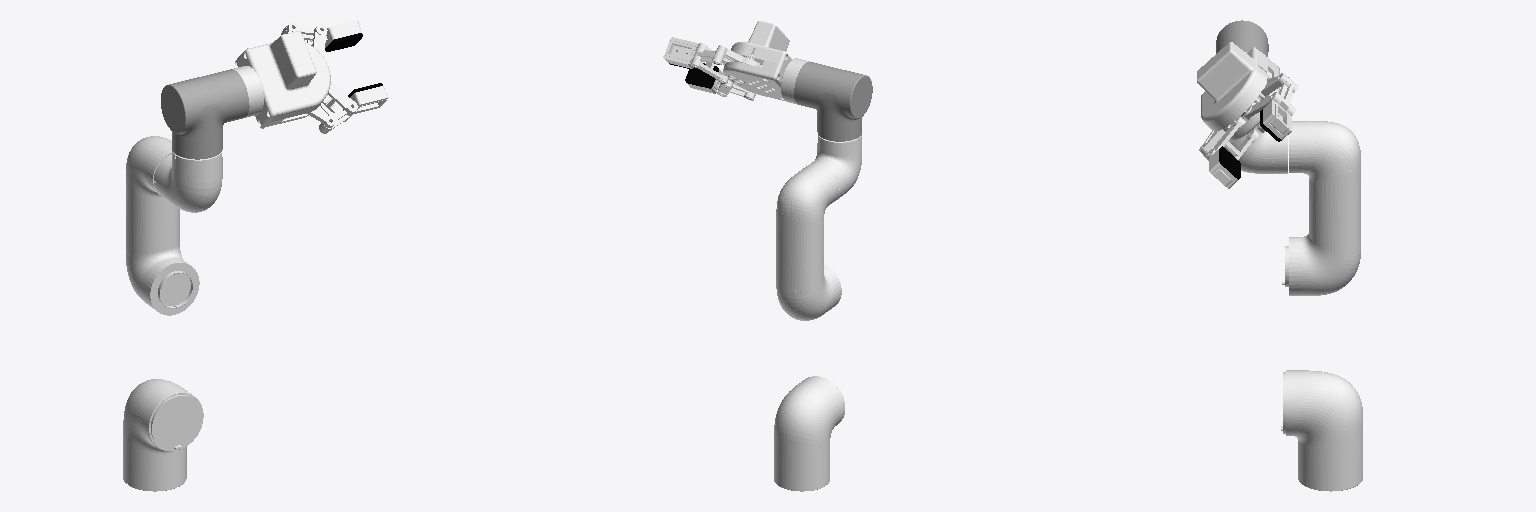
The robot description file, URDF, robot "mycobot_280_jn":
<?xml version="1.0"?>
<robot name="mycobot_280_jn">
  <link name="world"/>
  <joint name="world_to_g_base" type="fixed"><parent link="world"/><child link="g_base"/><origin xyz="0 0 0" rpy="0 0 0"/></joint>

  <link name="g_base">
    <visual>
      <geometry><mesh filename="package://positronic_description/urdf/mycobot_280_jn_sim/meshes/visual/g_base.dae"/></geometry>
    </visual>
    <collision>
      <geometry><mesh filename="package://positronic_description/urdf/mycobot_280_jn_sim/meshes/collision/g_base.stl"/></geometry>
    </collision>
    <inertial>
      <origin xyz="0.000004 0.000000 0.016000" rpy="0 0 0"/>
      <mass value="0.18415"/>
      <inertia ixx="3.5748e-04" ixy="5.8017e-10" ixz="1.5028e-14" iyy="1.9952e-04" iyz="-4.0912e-09" izz="5.2559e-04"/>
    </inertial>
  </link>
  <joint name="g_base_to_joint1" type="fixed"><parent link="g_base"/><child link="joint1"/><origin xyz="0 0 0.0320" rpy="0 0 0"/></joint>

  <link name="joint1">
    <visual>
      <geometry><mesh filename="package://positronic_description/urdf/mycobot_280_jn_sim/meshes/visual/joint1.dae"/></geometry>
    </visual>
    <collision>
      <geometry><mesh filename="package://positronic_description/urdf/mycobot_280_jn_sim/meshes/collision/joint1.stl"/></geometry>
    </collision>
    <inertial>
      <origin xyz="-0.000007 -0.000080 0.049738" rpy="0 0 0"/>
      <mass value="0.50875"/>
      <inertia ixx="1.2317e-03" ixy="6.9182e-09" ixz="-6.2406e-08" iyy="9.2410e-04" iyz="1.1339e-06" izz="1.1863e-03"/>
    </inertial>
  </link>
  <link name="joint2">
    <visual>
      <geometry><mesh filename="package://positronic_description/urdf/mycobot_280_jn_sim/meshes/visual/joint2.dae"/></geometry>
    </visual>
    <collision>
      <geometry><mesh filename="package://positronic_description/urdf/mycobot_280_jn_sim/meshes/collision/joint2.stl"/></geometry>
    </collision>
    <inertial>
      <origin xyz="-0.000000 -0.006642 -0.021543" rpy="0 0 0"/>
      <mass value="0.06376"/>
      <inertia ixx="4.6518e-05" ixy="-1.4217e-10" ixz="4.0220e-11" iyy="4.1988e-05" iyz="5.2079e-06" izz="2.3962e-05"/>
    </inertial>
  </link>
  <link name="joint3">
    <visual>
      <geometry><mesh filename="package://positronic_description/urdf/mycobot_280_jn_sim/meshes/visual/joint3.dae"/></geometry>
    </visual>
    <collision>
      <geometry><mesh filename="package://positronic_description/urdf/mycobot_280_jn_sim/meshes/collision/joint3.stl"/></geometry>
    </collision>
    <inertial>
      <origin xyz="-0.054329 -0.000001 0.055329" rpy="0 0 0"/>
      <mass value="0.11283"/>
      <inertia ixx="4.0982e-05" ixy="-4.4556e-09" ixz="-7.0957e-07" iyy="2.1152e-04" iyz="-8.7142e-10" izz="2.0504e-04"/>
    </inertial>
  </link>
  <link name="joint4">
    <visual>
      <geometry><mesh filename="package://positronic_description/urdf/mycobot_280_jn_sim/meshes/visual/joint4.dae"/></geometry>
    </visual>
    <collision>
      <geometry><mesh filename="package://positronic_description/urdf/mycobot_280_jn_sim/meshes/collision/joint4.stl"/></geometry>
    </collision>
    <inertial>
      <origin xyz="-0.045854 0.000000 0.007555" rpy="0 0 0"/>
      <mass value="0.08998"/>
      <inertia ixx="3.0322e-05" ixy="2.4186e-09" ixz="-2.9578e-06" iyy="1.3482e-04" iyz="1.3086e-09" izz="1.2647e-04"/>
    </inertial>
  </link>
  <link name="joint5">
    <visual>
      <geometry><mesh filename="package://positronic_description/urdf/mycobot_280_jn_sim/meshes/visual/joint5.dae"/></geometry>
    </visual>
    <collision>
      <geometry><mesh filename="package://positronic_description/urdf/mycobot_280_jn_sim/meshes/collision/joint5.stl"/></geometry>
    </collision>
    <inertial>
      <origin xyz="0.000001 -0.009519 -0.008481" rpy="0 0 0"/>
      <mass value="0.02887"/>
      <inertia ixx="1.1107e-05" ixy="2.2157e-10" ixz="1.0327e-10" iyy="8.0087e-06" iyz="1.5831e-06" izz="8.7282e-06"/>
    </inertial>
  </link>
  <link name="joint6">
    <visual>
      <geometry><mesh filename="package://positronic_description/urdf/mycobot_280_jn_sim/meshes/visual/joint6.dae"/></geometry>
    </visual>
    <collision>
      <geometry><mesh filename="package://positronic_description/urdf/mycobot_280_jn_sim/meshes/collision/joint6.stl"/></geometry>
    </collision>
    <inertial>
      <origin xyz="-0.000000 0.005619 -0.009142" rpy="0 0 0"/>
      <mass value="0.03611"/>
      <inertia ixx="1.6575e-05" ixy="1.3007e-11" ixz="9.1115e-11" iyy="1.1852e-05" iyz="-8.2298e-07" izz="1.2374e-05"/>
    </inertial>
  </link>
  <link name="joint6_flange">
    <visual>
      <geometry><mesh filename="package://positronic_description/urdf/mycobot_280_jn_sim/meshes/visual/joint6_flange.dae"/></geometry>
    </visual>
    <collision>
      <geometry><mesh filename="package://positronic_description/urdf/mycobot_280_jn_sim/meshes/collision/joint6_flange.stl"/></geometry>
    </collision>
    <inertial>
      <origin xyz="-0.000000 -0.000000 -0.005150" rpy="0 0 0"/>
      <mass value="0.00556"/>
      <inertia ixx="5.9851e-07" ixy="-5.1008e-24" ixz="1.4442e-24" iyy="5.9851e-07" iyz="-7.4388e-16" izz="1.0234e-06"/>
    </inertial>
  </link>
  <joint name="joint2_to_joint1" type="revolute">
    <parent link="joint1"/><child link="joint2"/>
    <origin xyz="0 0 0.15756" rpy="0 0 0"/>
    <axis xyz="0 0 1"/>
    <limit effort="10.0" lower="-2.9321" upper="2.9321" velocity="2.618"/>
    <dynamics damping="0.1" friction="0.01"/>
  </joint>
  <joint name="joint3_to_joint2" type="revolute">
    <parent link="joint2"/><child link="joint3"/>
    <origin xyz="0 0 -0.001" rpy="0 1.5708 -1.5708"/>
    <axis xyz="0 0 1"/>
    <limit effort="10.0" lower="-2.4434" upper="2.4434" velocity="2.618"/>
    <dynamics damping="0.1" friction="0.01"/>
  </joint>
  <joint name="joint4_to_joint3" type="revolute">
    <parent link="joint3"/><child link="joint4"/>
    <origin xyz="-0.1104 0 0" rpy="0 0 0"/>
    <axis xyz="0 0 1"/>
    <limit effort="10.0" lower="-2.6179" upper="2.6179" velocity="2.618"/>
    <dynamics damping="0.1" friction="0.01"/>
  </joint>
  <joint name="joint5_to_joint4" type="revolute">
    <parent link="joint4"/><child link="joint5"/>
    <origin xyz="-0.096 0 0.06462" rpy="0 0 -1.5708"/>
    <axis xyz="0 0 1"/>
    <limit effort="10.0" lower="-2.6179" upper="2.6179" velocity="2.618"/>
    <dynamics damping="0.1" friction="0.01"/>
  </joint>
  <joint name="joint6_to_joint5" type="revolute">
    <parent link="joint5"/><child link="joint6"/>
    <origin xyz="0 -0.07318 0" rpy="1.5708 -1.5708 0"/>
    <axis xyz="0 0 1"/>
    <limit effort="10.0" lower="-2.7052" upper="2.7925" velocity="2.618"/>
    <dynamics damping="0.1" friction="0.01"/>
  </joint>
  <joint name="joint6output_to_joint6" type="revolute">
    <parent link="joint6"/><child link="joint6_flange"/>
    <origin xyz="0 0.0456 0" rpy="-1.5708 0.7854 0"/>
    <axis xyz="0 0 1"/>
    <limit effort="10.0" lower="-3.14159" upper="3.14159" velocity="2.618"/>
    <dynamics damping="0.1" friction="0.01"/>
  </joint>
  <joint name="joint6output_to_gripper_base" type="fixed">
    <parent link="joint6_flange"/><child link="gripper_base"/>
    <origin xyz="0 0 0.0340" rpy="1.5708 0 0"/>
  </joint>
  <link name="gripper_base">
    <visual>
      <geometry><mesh filename="package://positronic_description/urdf/mycobot_280_jn_sim/meshes/visual/gripper_base.dae"/></geometry>
    </visual>
    <collision>
      <geometry><mesh filename="package://positronic_description/urdf/mycobot_280_jn_sim/meshes/collision/gripper_base.stl"/></geometry>
    </collision>
    <inertial>
      <origin xyz="-0.001001 -0.003635 0.008093" rpy="0 0 0"/>
      <mass value="0.07782"/>
      <inertia ixx="3.0829e-05" ixy="5.8945e-08" ixz="1.4872e-06" iyy="3.0356e-05" iyz="-2.3616e-07" izz="3.6504e-05"/>
    </inertial>
  </link>
  <link name="gripper_left1">
    <visual>
      <geometry><mesh filename="package://positronic_description/urdf/mycobot_280_jn_sim/meshes/visual/gripper_left1.dae"/></geometry>
    </visual>
    <collision>
      <geometry><mesh filename="package://positronic_description/urdf/mycobot_280_jn_sim/meshes/collision/gripper_left1.stl"/></geometry>
    </collision>
    <inertial>
      <origin xyz="0.008214 0.028640 -0.008200" rpy="0 0 0"/>
      <mass value="0.00900"/>
      <inertia ixx="2.1380e-06" ixy="-4.4640e-07" ixz="-5.0431e-18" iyy="5.4470e-07" iyz="1.1387e-17" izz="2.1781e-06"/>
    </inertial>
  </link>
  <link name="gripper_left2">
    <visual>
      <geometry><mesh filename="package://positronic_description/urdf/mycobot_280_jn_sim/meshes/visual/gripper_left2.dae"/></geometry>
    </visual>
    <collision>
      <geometry><mesh filename="package://positronic_description/urdf/mycobot_280_jn_sim/meshes/collision/gripper_left2.stl"/></geometry>
    </collision>
    <inertial>
      <origin xyz="-0.014480 0.007475 -0.008200" rpy="0 0 0"/>
      <mass value="0.00420"/>
      <inertia ixx="2.8523e-07" ixy="2.0839e-07" ixz="3.8170e-22" iyy="5.3324e-07" iyz="-1.9085e-22" izz="5.3908e-07"/>
    </inertial>
  </link>
  <link name="gripper_left3">
    <visual>
      <geometry><mesh filename="package://positronic_description/urdf/mycobot_280_jn_sim/meshes/visual/gripper_left3.dae"/></geometry>
    </visual>
    <collision>
      <geometry><mesh filename="package://positronic_description/urdf/mycobot_280_jn_sim/meshes/collision/gripper_left3.stl"/></geometry>
    </collision>
    <inertial>
      <origin xyz="-0.007273 0.003393 -0.000700" rpy="0 0 0"/>
      <mass value="0.00288"/>
      <inertia ixx="2.0033e-07" ixy="1.2707e-07" ixz="3.3597e-22" iyy="3.5146e-07" iyz="-2.0178e-22" izz="5.3980e-07"/>
    </inertial>
  </link>
  <link name="gripper_right1">
    <visual>
      <geometry><mesh filename="package://positronic_description/urdf/mycobot_280_jn_sim/meshes/visual/gripper_right1.dae"/></geometry>
    </visual>
    <collision>
      <geometry><mesh filename="package://positronic_description/urdf/mycobot_280_jn_sim/meshes/collision/gripper_right1.stl"/></geometry>
    </collision>
    <inertial>
      <origin xyz="-0.009429 0.029012 -0.008200" rpy="0 0 0"/>
      <mass value="0.00900"/>
      <inertia ixx="2.1380e-06" ixy="4.4639e-07" ixz="-5.0440e-18" iyy="5.4470e-07" iyz="-1.1388e-17" izz="2.1781e-06"/>
    </inertial>
  </link>
  <link name="gripper_right2">
    <visual>
      <geometry><mesh filename="package://positronic_description/urdf/mycobot_280_jn_sim/meshes/visual/gripper_right2.dae"/></geometry>
    </visual>
    <collision>
      <geometry><mesh filename="package://positronic_description/urdf/mycobot_280_jn_sim/meshes/collision/gripper_right2.stl"/></geometry>
    </collision>
    <inertial>
      <origin xyz="0.013373 0.007661 -0.008200" rpy="0 0 0"/>
      <mass value="0.00420"/>
      <inertia ixx="2.9105e-07" ixy="-2.1175e-07" ixz="-4.4531e-22" iyy="5.2741e-07" iyz="3.1809e-23" izz="5.3908e-07"/>
    </inertial>
  </link>
  <link name="gripper_right3">
    <visual>
      <geometry><mesh filename="package://positronic_description/urdf/mycobot_280_jn_sim/meshes/visual/gripper_right3.dae"/></geometry>
    </visual>
    <collision>
      <geometry><mesh filename="package://positronic_description/urdf/mycobot_280_jn_sim/meshes/collision/gripper_right3.stl"/></geometry>
    </collision>
    <inertial>
      <origin xyz="0.006227 0.003481 -0.000700" rpy="0 0 0"/>
      <mass value="0.00288"/>
      <inertia ixx="2.0380e-07" ixy="-1.2918e-07" ixz="-2.1471e-22" iyy="3.4785e-07" iyz="-1.6600e-22" izz="5.3966e-07"/>
    </inertial>
  </link>
  <joint name="gripper_controller" type="revolute">
    <parent link="gripper_base"/><child link="gripper_left3"/>
    <origin xyz="-0.012 0.005 0" rpy="0 0 0"/>
    <axis xyz="0 0 1"/>
    <limit effort="10.0" lower="-0.74" upper="0.15" velocity="1.0"/>
    <dynamics damping="0.1" friction="0.01"/>
  </joint>
  <joint name="gripper_base_to_gripper_left2" type="revolute">
    <parent link="gripper_base"/><child link="gripper_left2"/>
    <origin xyz="-0.005 0.027 0" rpy="0 0 0"/>
    <axis xyz="0 0 1"/>
    <limit effort="10.0" lower="-0.8" upper="0.5" velocity="1.0"/>
    <dynamics damping="0.1" friction="0.01"/>
    <mimic joint="gripper_controller" multiplier="1.0" offset="0"/>
  </joint>
  <joint name="gripper_left3_to_gripper_left1" type="revolute">
    <parent link="gripper_left3"/><child link="gripper_left1"/>
    <origin xyz="-0.027 0.016 0" rpy="0 0 0"/>
    <axis xyz="0 0 1"/>
    <limit effort="10.0" lower="-0.5" upper="0.8" velocity="1.0"/>
    <dynamics damping="0.1" friction="0.01"/>
    <mimic joint="gripper_controller" multiplier="-1.0" offset="0"/>
  </joint>
  <joint name="gripper_base_to_gripper_right3" type="revolute">
    <parent link="gripper_base"/><child link="gripper_right3"/>
    <origin xyz="0.012 0.005 0" rpy="0 0 0"/>
    <axis xyz="0 0 1"/>
    <limit effort="10.0" lower="-0.15" upper="0.8" velocity="1.0"/>
    <dynamics damping="0.1" friction="0.01"/>
    <mimic joint="gripper_controller" multiplier="-1.0" offset="0"/>
  </joint>
  <joint name="gripper_base_to_gripper_right2" type="revolute">
    <parent link="gripper_base"/><child link="gripper_right2"/>
    <origin xyz="0.005 0.027 0" rpy="0 0 0"/>
    <axis xyz="0 0 1"/>
    <limit effort="10.0" lower="-0.5" upper="0.8" velocity="1.0"/>
    <dynamics damping="0.1" friction="0.01"/>
    <mimic joint="gripper_controller" multiplier="-1.0" offset="0"/>
  </joint>
  <joint name="gripper_right3_to_gripper_right1" type="revolute">
    <parent link="gripper_right3"/><child link="gripper_right1"/>
    <origin xyz="0.027 0.016 0" rpy="0 0 0"/>
    <axis xyz="0 0 1"/>
    <limit effort="10.0" lower="-0.8" upper="0.5" velocity="1.0"/>
    <dynamics damping="0.1" friction="0.01"/>
    <mimic joint="gripper_controller" multiplier="1.0" offset="0"/>
  </joint>

  <gazebo reference="joint2"><turnGravityOff>true</turnGravityOff></gazebo>
  <gazebo reference="joint3"><turnGravityOff>true</turnGravityOff></gazebo>
  <gazebo reference="joint4"><turnGravityOff>true</turnGravityOff></gazebo>
  <gazebo reference="joint5"><turnGravityOff>true</turnGravityOff></gazebo>
  <gazebo reference="joint6"><turnGravityOff>true</turnGravityOff></gazebo>
  <gazebo reference="joint6_flange"><turnGravityOff>true</turnGravityOff></gazebo>
  <gazebo reference="gripper_base"><turnGravityOff>true</turnGravityOff></gazebo>
  <gazebo reference="gripper_left1"><turnGravityOff>true</turnGravityOff></gazebo>
  <gazebo reference="gripper_left2"><turnGravityOff>true</turnGravityOff></gazebo>
  <gazebo reference="gripper_left3"><turnGravityOff>true</turnGravityOff></gazebo>
  <gazebo reference="gripper_right1"><turnGravityOff>true</turnGravityOff></gazebo>
  <gazebo reference="gripper_right2"><turnGravityOff>true</turnGravityOff></gazebo>
  <gazebo reference="gripper_right3"><turnGravityOff>true</turnGravityOff></gazebo>
</robot>

--- What the picture shows (computed from the rendered views, not written in the file) ---
Views: 3 orthographic renders of the robot side by side, from view 1: azimuth 30°, elevation 25°; view 2: azimuth 150°, elevation 25°; view 3: azimuth 270°, elevation 25°.
Model mycobot_280_jn with 16 links and 15 joints (12 revolute, 3 fixed), rooted at world, posed all joints at 0.
Visible links, largest first — view 1: joint4, joint2, joint6, gripper_base, joint5, gripper_right1, gripper_left1, joint6_flange, gripper_right2; view 2: joint4, joint2, joint6, gripper_base, joint5, gripper_left1, gripper_right1, joint6_flange; view 3: joint4, joint2, gripper_base, joint5, gripper_left1, joint6, gripper_right1, gripper_right2.
Link boxes in pixels (x1=…): joint4: x1=126, y1=136, x2=199, y2=315; joint2: x1=123, y1=379, x2=203, y2=491; joint6: x1=161, y1=69, x2=249, y2=159; gripper_base: x1=235, y1=31, x2=330, y2=128; joint5: x1=154, y1=151, x2=222, y2=212; gripper_right1: x1=319, y1=83, x2=388, y2=133; gripper_left1: x1=281, y1=20, x2=362, y2=51; joint6_flange: x1=233, y1=66, x2=263, y2=117; gripper_right2: x1=322, y1=81, x2=357, y2=121; joint4: x1=776, y1=163, x2=841, y2=320; joint2: x1=774, y1=376, x2=844, y2=491; joint6: x1=794, y1=62, x2=872, y2=141; gripper_base: x1=723, y1=21, x2=792, y2=100; joint5: x1=811, y1=135, x2=861, y2=201; gripper_left1: x1=663, y1=37, x2=724, y2=69; gripper_right1: x1=685, y1=63, x2=755, y2=100; joint6_flange: x1=781, y1=58, x2=809, y2=104; joint4: x1=1282, y1=121, x2=1360, y2=295; joint2: x1=1281, y1=370, x2=1362, y2=491; gripper_base: x1=1197, y1=42, x2=1279, y2=141; joint5: x1=1217, y1=126, x2=1287, y2=173; gripper_left1: x1=1260, y1=77, x2=1297, y2=141; joint6: x1=1216, y1=20, x2=1268, y2=56; gripper_right1: x1=1203, y1=146, x2=1240, y2=188; gripper_right2: x1=1205, y1=117, x2=1258, y2=159.
Bounding box of the posed robot: 0.1782 × 0.122 × 0.387 m (x, y, z).
12 mesh visuals loaded from 15 distinct referenced files (12 Collada DAE); not drawn: 3 (reference not matched to a file when rendering).
